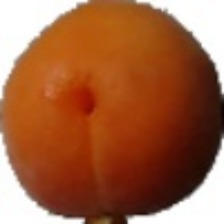apricot: (0, 40, 197, 191)
